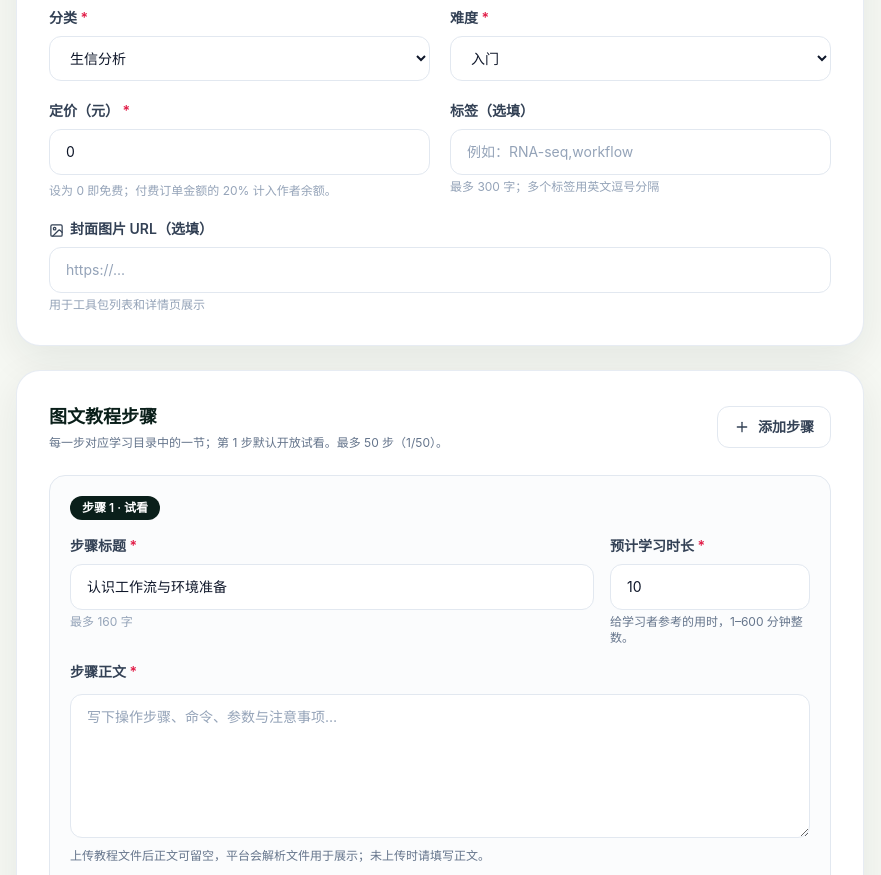
Test: single-toolkit publishing form › explains fields and constraints with accessible labels
(page scrolled)
Expected: the text "给学习者参考的用时，1–600 分钟整数。" is shown, x1=610 y1=614 x2=810 y2=646
Expected: the text "每一步对应学习目录中的一节；第 1 步默认开放试看。最多 50 步（1/50）。" is shown, x1=49 y1=435 x2=448 y2=451
Click the button "添加步骤".
click(774, 427)  # box x1=717 y1=406 x2=831 y2=448
(page scrolled)
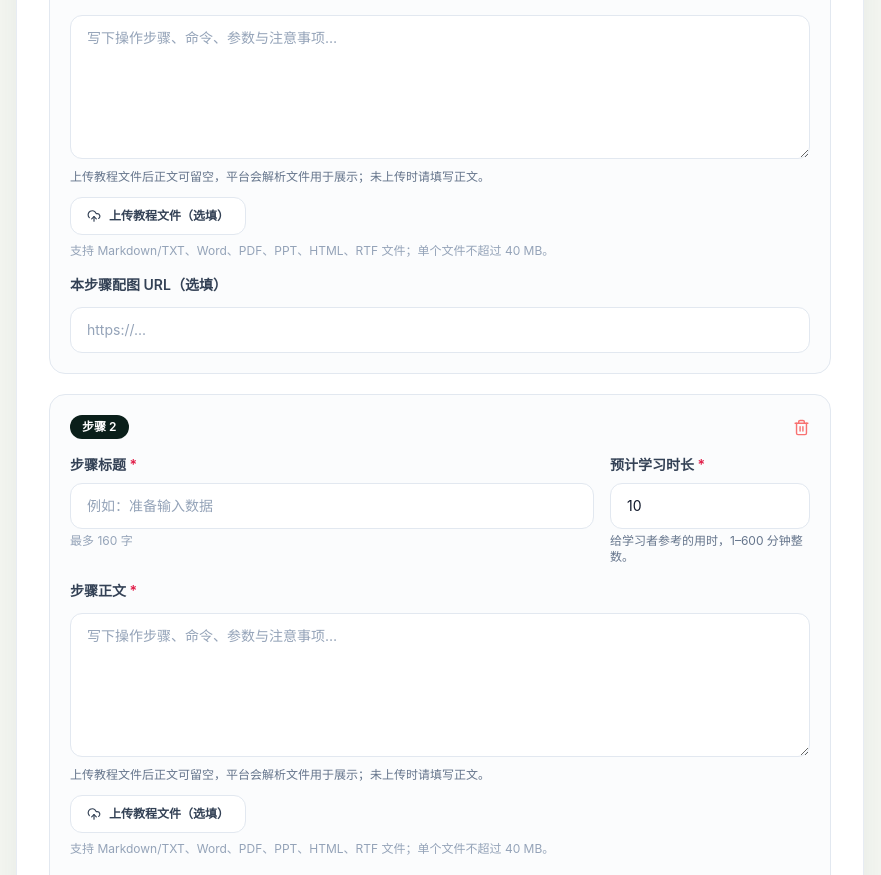
Expected: the button named "删除步骤 2" is shown, x1=793 y1=418 x2=810 y2=436
